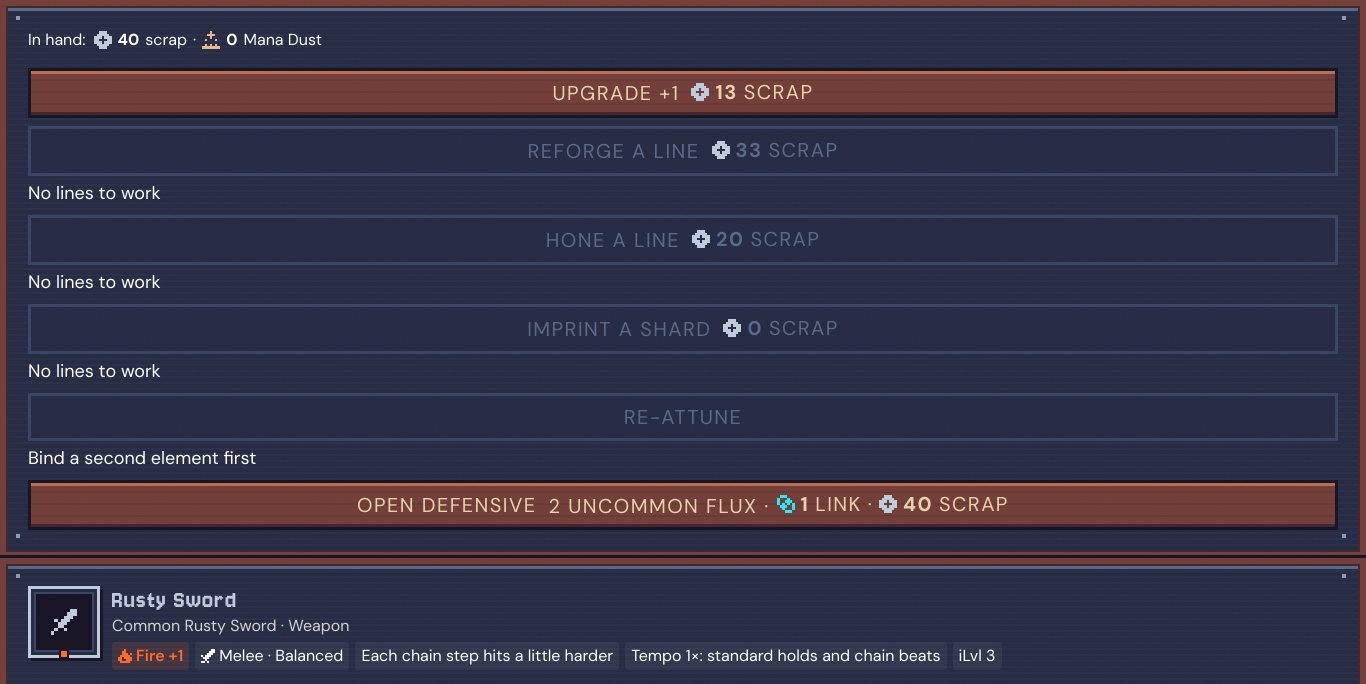
Scenario: Temper › opens a skill at 0 slots at the engine's price, as its dry run allows, and says why not
The image size is (1366, 684).
Click the button with test id "temper-open-skill": (683, 505) [28,480,1338,530]
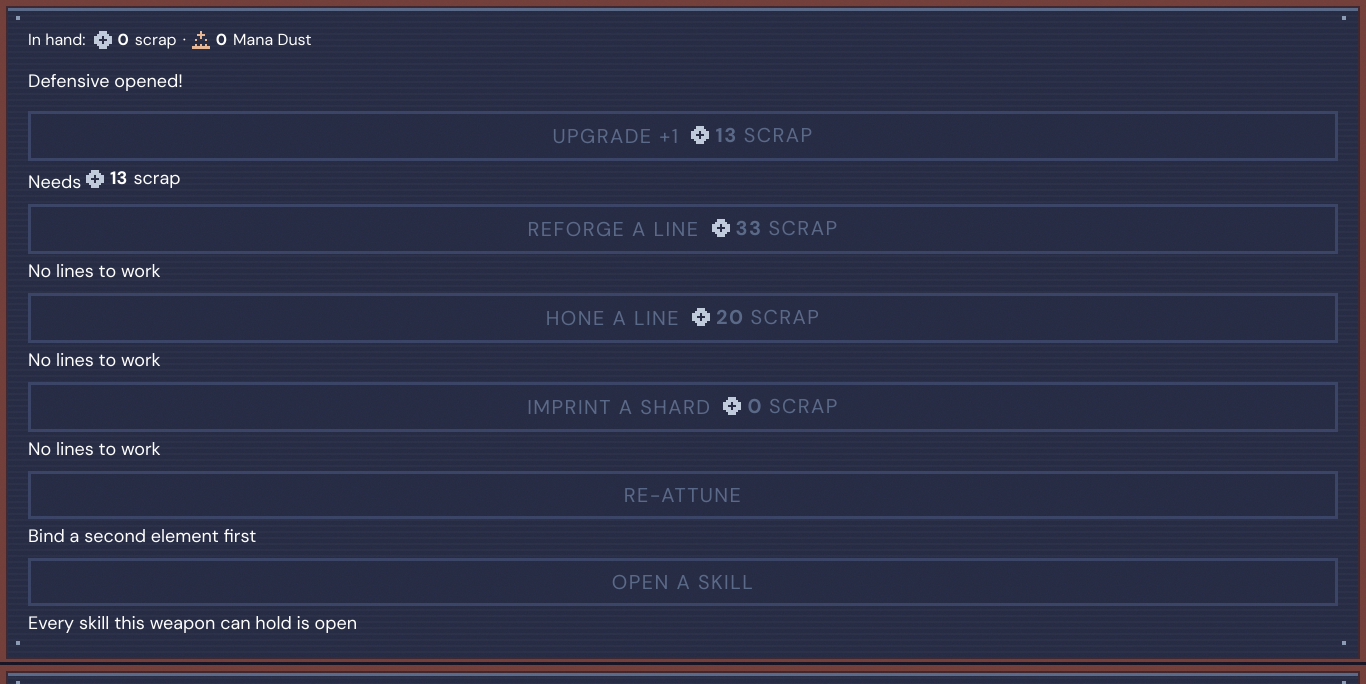
Expected: the message reads "Defensive opened!", [28,69,183,93]
Expected: the button with test id "temper-open-skill" is disabled, [28,558,1338,606]
